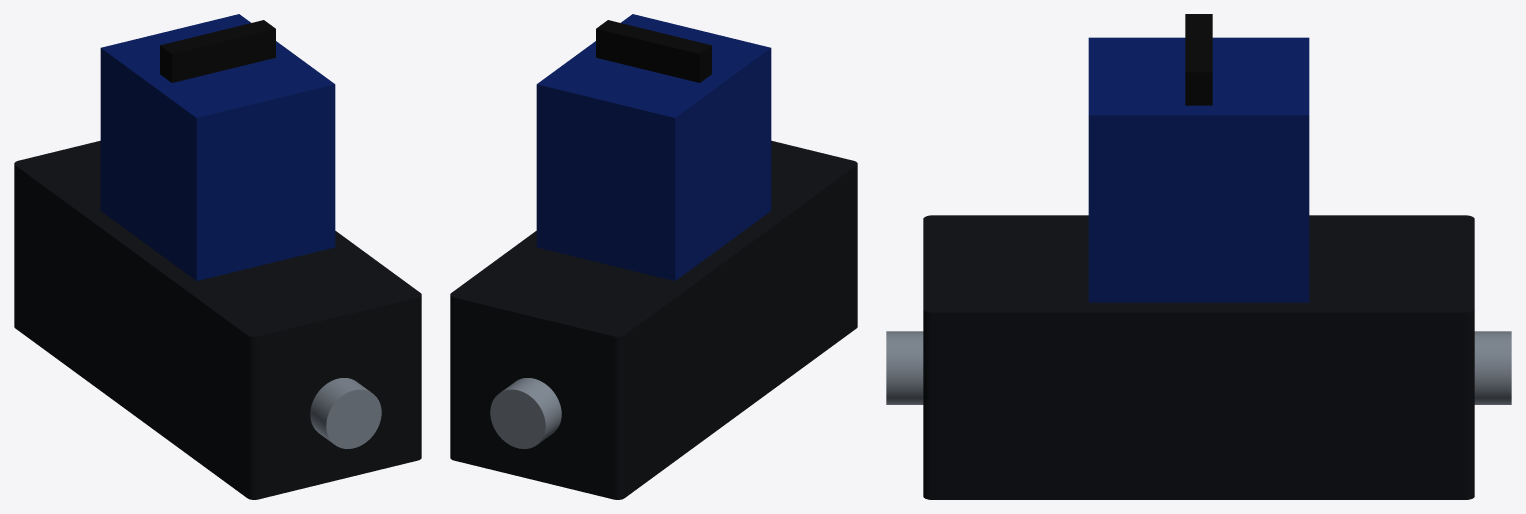
Rendered from solenoid_valve.glb.
The picture shows the model from 3 angles, left to right: view 1: azimuth 30°, elevation 25°; view 2: azimuth 150°, elevation 25°; view 3: azimuth 270°, elevation 25°; orthographic projection. The views are drawn at different scales.
Visible parts, largest first — view 1: solenoid_valve; view 2: solenoid_valve; view 3: solenoid_valve.
Part boxes in pixels (x1=…): solenoid_valve: x1=14, y1=14, x2=421, y2=499; solenoid_valve: x1=450, y1=14, x2=857, y2=499; solenoid_valve: x1=886, y1=14, x2=1511, y2=499.
Bounding box in the file's own units: 0.025 × 0.049 × 0.068.
